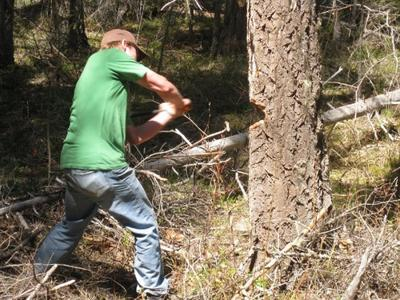person: (30, 29, 192, 300)
